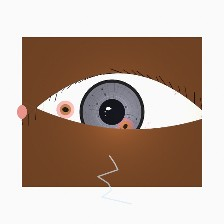foreign_body_visible: (112, 116, 139, 137)
